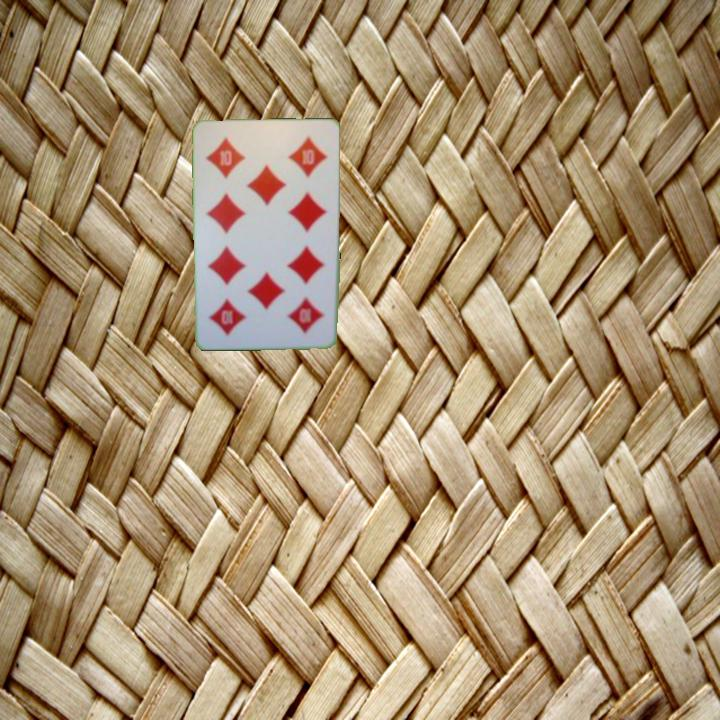d_10.png: (263, 281, 330, 340), (201, 128, 269, 186)
